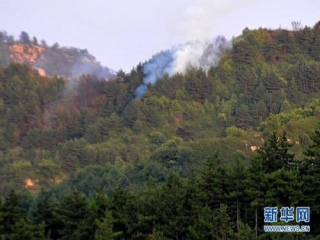smoke: (135, 35, 225, 100)
